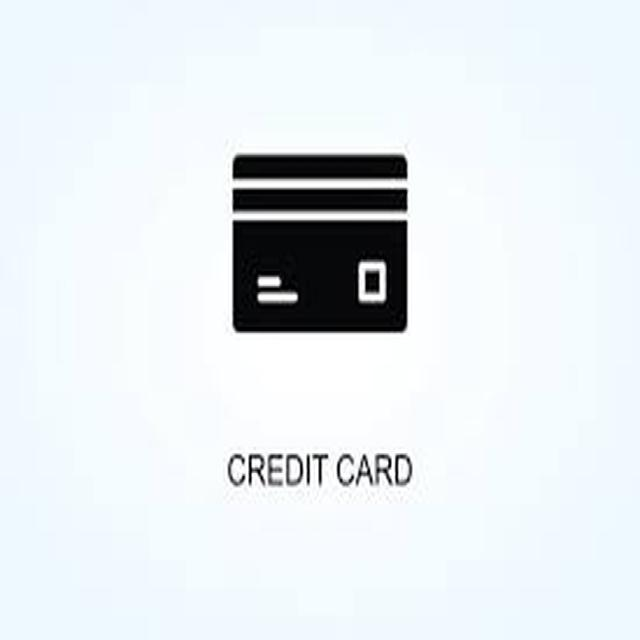card: (206, 113, 433, 364)
